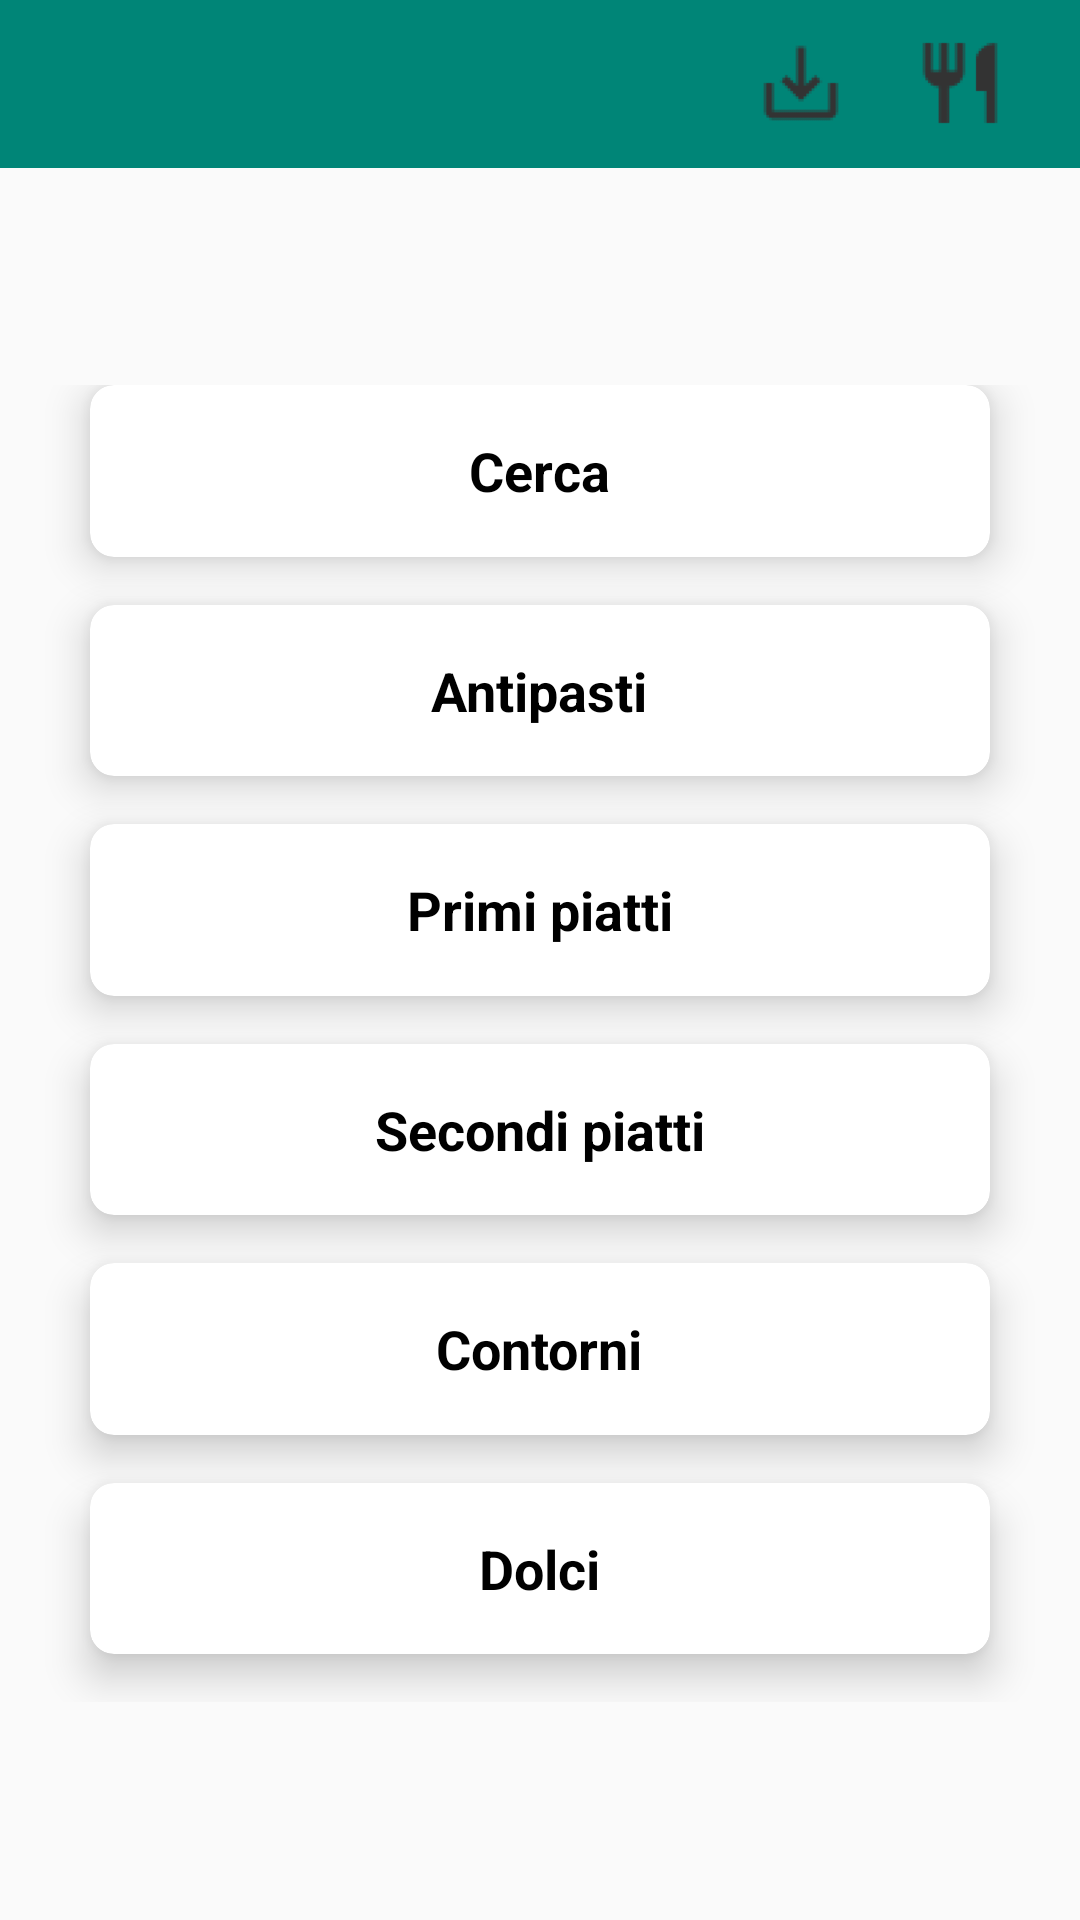

Locate icon controls on the screen. Image size 1080 × 1920, boxes as {"left": x1, "top": y1, "right": x2, "bottom": y2}.
save: {"left": 764, "top": 46, "right": 838, "bottom": 120}
